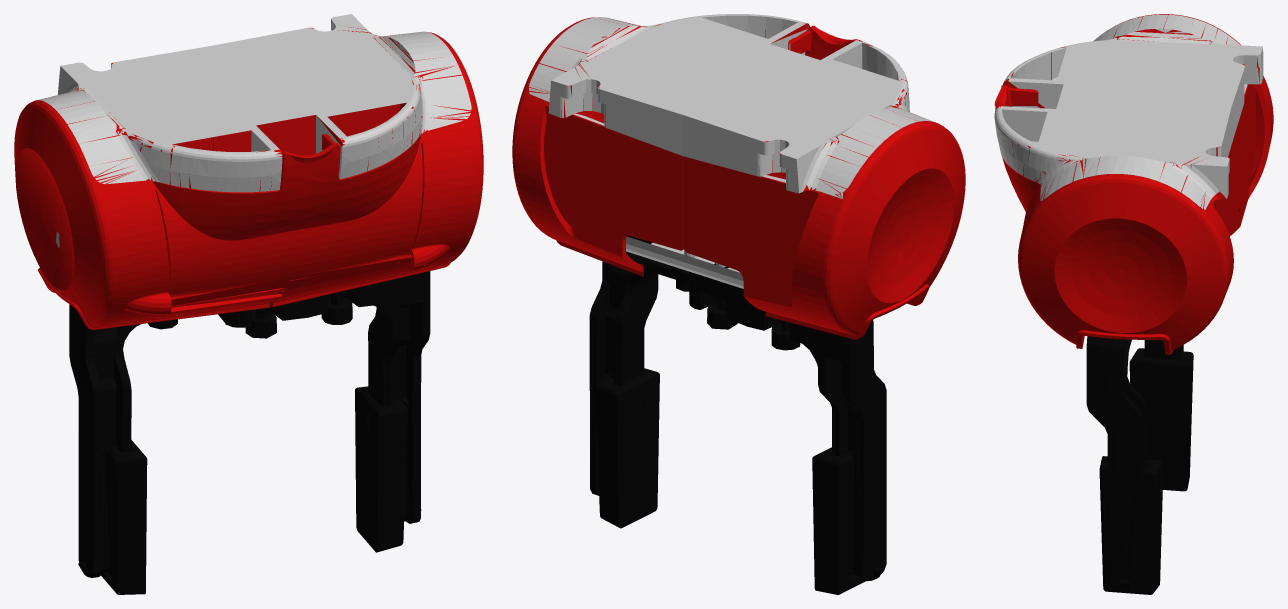
Rendered from Gripper.glb.
The picture shows the model from 3 angles, left to right: view 1: azimuth 30°, elevation 25°; view 2: azimuth 150°, elevation 25°; view 3: azimuth 270°, elevation 25°; orthographic projection. The views are drawn at different scales.
Parts seen in each view (by area): view 1: right_gripper_base, r_gripper_l_finger, r_gripper_r_finger, soft_pad_1, soft_pad_2; view 2: right_gripper_base, r_gripper_r_finger, soft_pad_1, r_gripper_l_finger, soft_pad_2; view 3: right_gripper_base, r_gripper_l_finger, soft_pad_2, soft_pad_1, r_gripper_r_finger.
Boxes of the visible parts, box(x1,y1,x2,y2) form: right_gripper_base: box(14, 14, 483, 329); r_gripper_l_finger: box(218, 271, 430, 523); r_gripper_r_finger: box(69, 293, 177, 577); soft_pad_1: box(355, 386, 407, 552); soft_pad_2: box(101, 440, 147, 594); right_gripper_base: box(512, 14, 965, 339); r_gripper_r_finger: box(689, 263, 886, 581); soft_pad_1: box(595, 368, 659, 528); r_gripper_l_finger: box(589, 235, 689, 495); soft_pad_2: box(812, 447, 865, 594); right_gripper_base: box(994, 14, 1273, 354); r_gripper_l_finger: box(1086, 336, 1146, 590); soft_pad_2: box(1129, 348, 1193, 491); soft_pad_1: box(1099, 456, 1163, 594); r_gripper_r_finger: box(1144, 339, 1183, 359).
Bounding box in the file's own units: 0.1067 × 0.1247 × 0.071.
